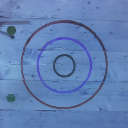Axe Tip: (0, 27, 2, 30)
